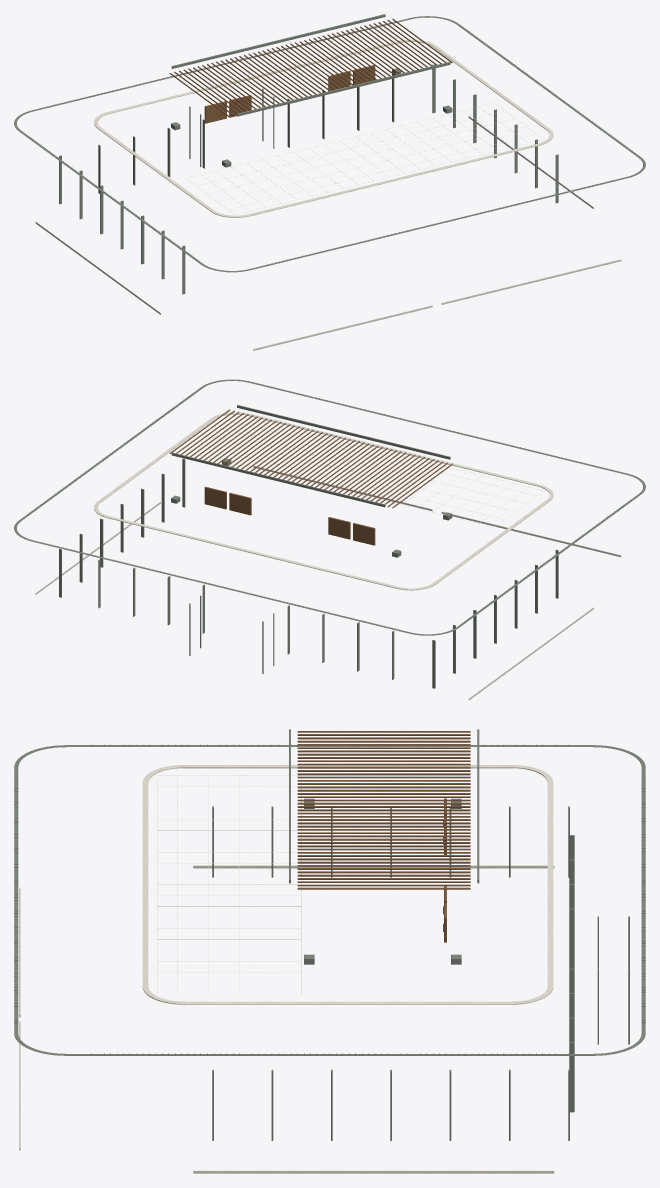
Rendered from m-rooftop-facade-v49.glb.
3 views of the same model, one above another, from view 1: azimuth 30°, elevation 25°; view 2: azimuth 150°, elevation 25°; view 3: azimuth 270°, elevation 25° (orthographic). The views are drawn at different scales.
Visible parts, largest first — view 1: M47_Crown_M47_Oak.001, M47_Crown_M47_Bronze.001, M47_Crown_M47_Stone.001, M47_Floor_01_M47_Bronze.001, M47_Floor_01_M47_Stone.001; view 2: M47_Crown_M47_Oak.001, M47_Crown_M47_Bronze.001, M47_Crown_M47_Stone.001, M47_Floor_01_M47_Bronze.001, M47_Floor_01_M47_Stone.001; view 3: M47_Crown_M47_Oak.001, M47_Crown_M47_Stone.001, M47_Crown_M47_Bronze.001, M47_Floor_01_M47_Bronze.001, M47_Floor_01_M47_Stone.001.
Boxes of the visible parts, box(x1,y1,x2,y2) form: M47_Crown_M47_Oak.001: box(169, 18, 452, 123); M47_Crown_M47_Bronze.001: box(14, 14, 645, 272); M47_Crown_M47_Stone.001: box(94, 39, 553, 217); M47_Floor_01_M47_Bronze.001: box(59, 64, 558, 294); M47_Floor_01_M47_Stone.001: box(35, 116, 621, 350); M47_Crown_M47_Oak.001: box(169, 409, 452, 545); M47_Crown_M47_Bronze.001: box(14, 379, 645, 635); M47_Crown_M47_Stone.001: box(94, 412, 553, 590); M47_Floor_01_M47_Bronze.001: box(59, 458, 558, 688); M47_Floor_01_M47_Stone.001: box(35, 465, 621, 700); M47_Crown_M47_Oak.001: box(297, 731, 470, 942); M47_Crown_M47_Stone.001: box(142, 765, 553, 1004); M47_Crown_M47_Bronze.001: box(14, 729, 645, 1055); M47_Floor_01_M47_Bronze.001: box(212, 806, 629, 1140); M47_Floor_01_M47_Stone.001: box(19, 865, 554, 1173).
Size of the model in its own units: 28.5 by 9.26 by 24.5.
3 materials, 2 textured.
